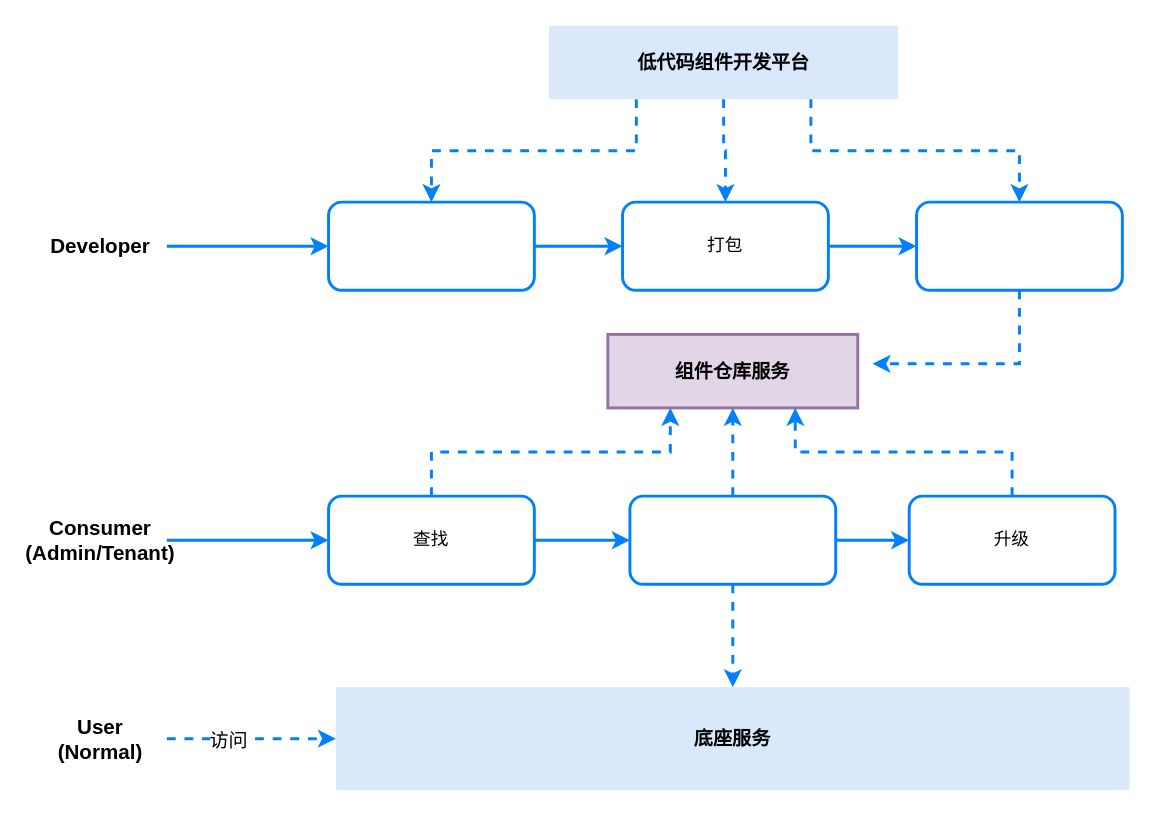
Some shapes in this 1154 by 814 pixel diagram are drawn without their labels. The centre of each missing label's shape, as x and y in pixels:
发布: the point at 1018,245
开发: the point at 430,245
部署: the point at 732,539
